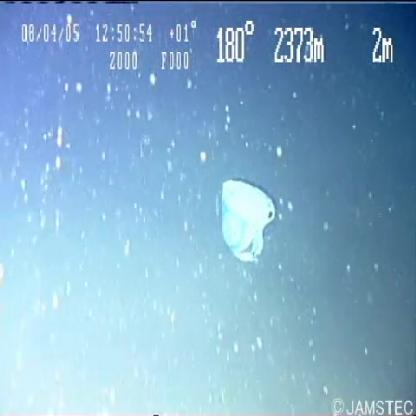Rác: (209, 170, 292, 284)
